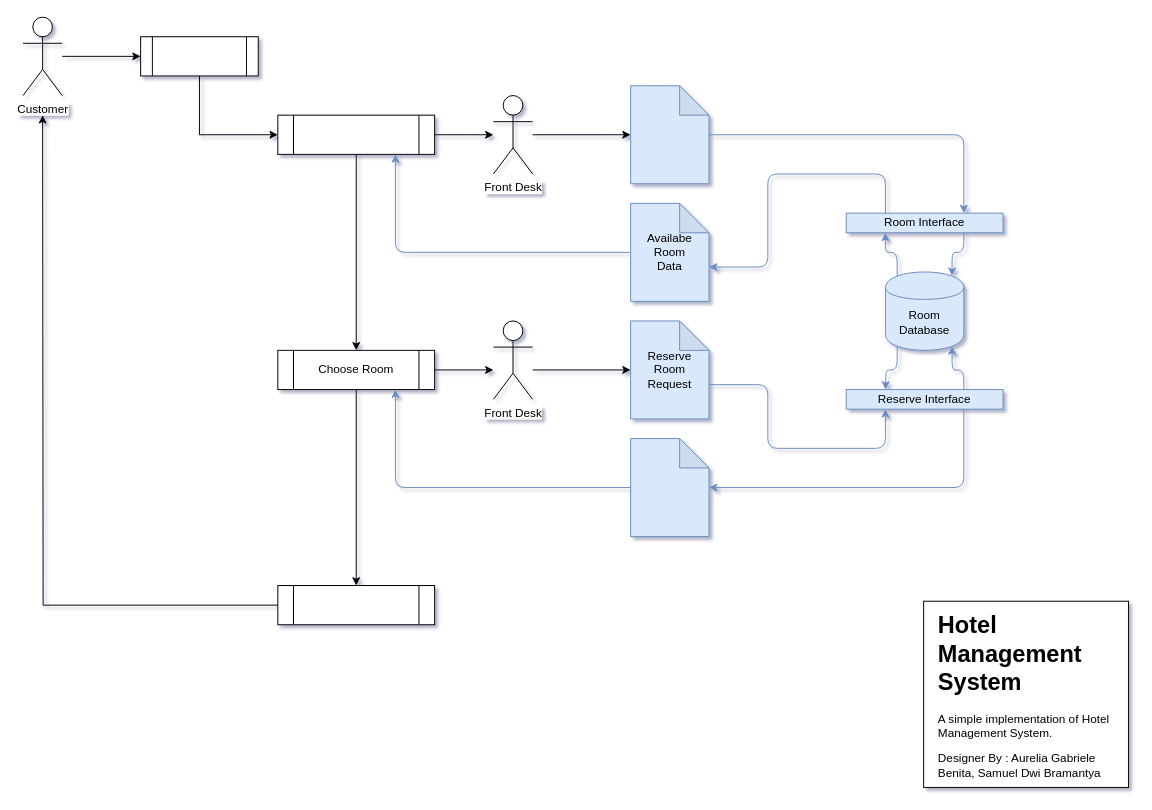
This 1152x810 diagram has some shape labels left out. The shapes that lost their labels are listed below. From the top down, each one's centre as x and y in pixels, then its label:
the point at 199,56: Reservation
the point at 356,134: Room List
the point at 669,134: Availabe Room Request
the point at 669,487: Approval
the point at 356,605: Room Key Retrieval
